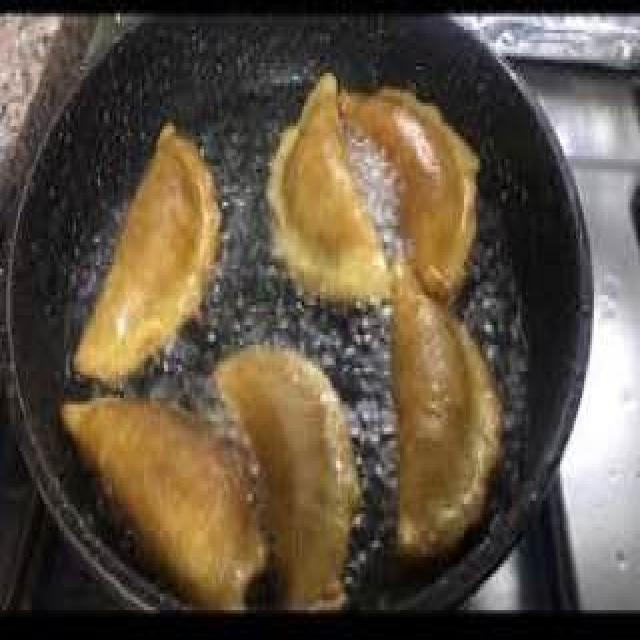ataif: (57, 41, 505, 618)
